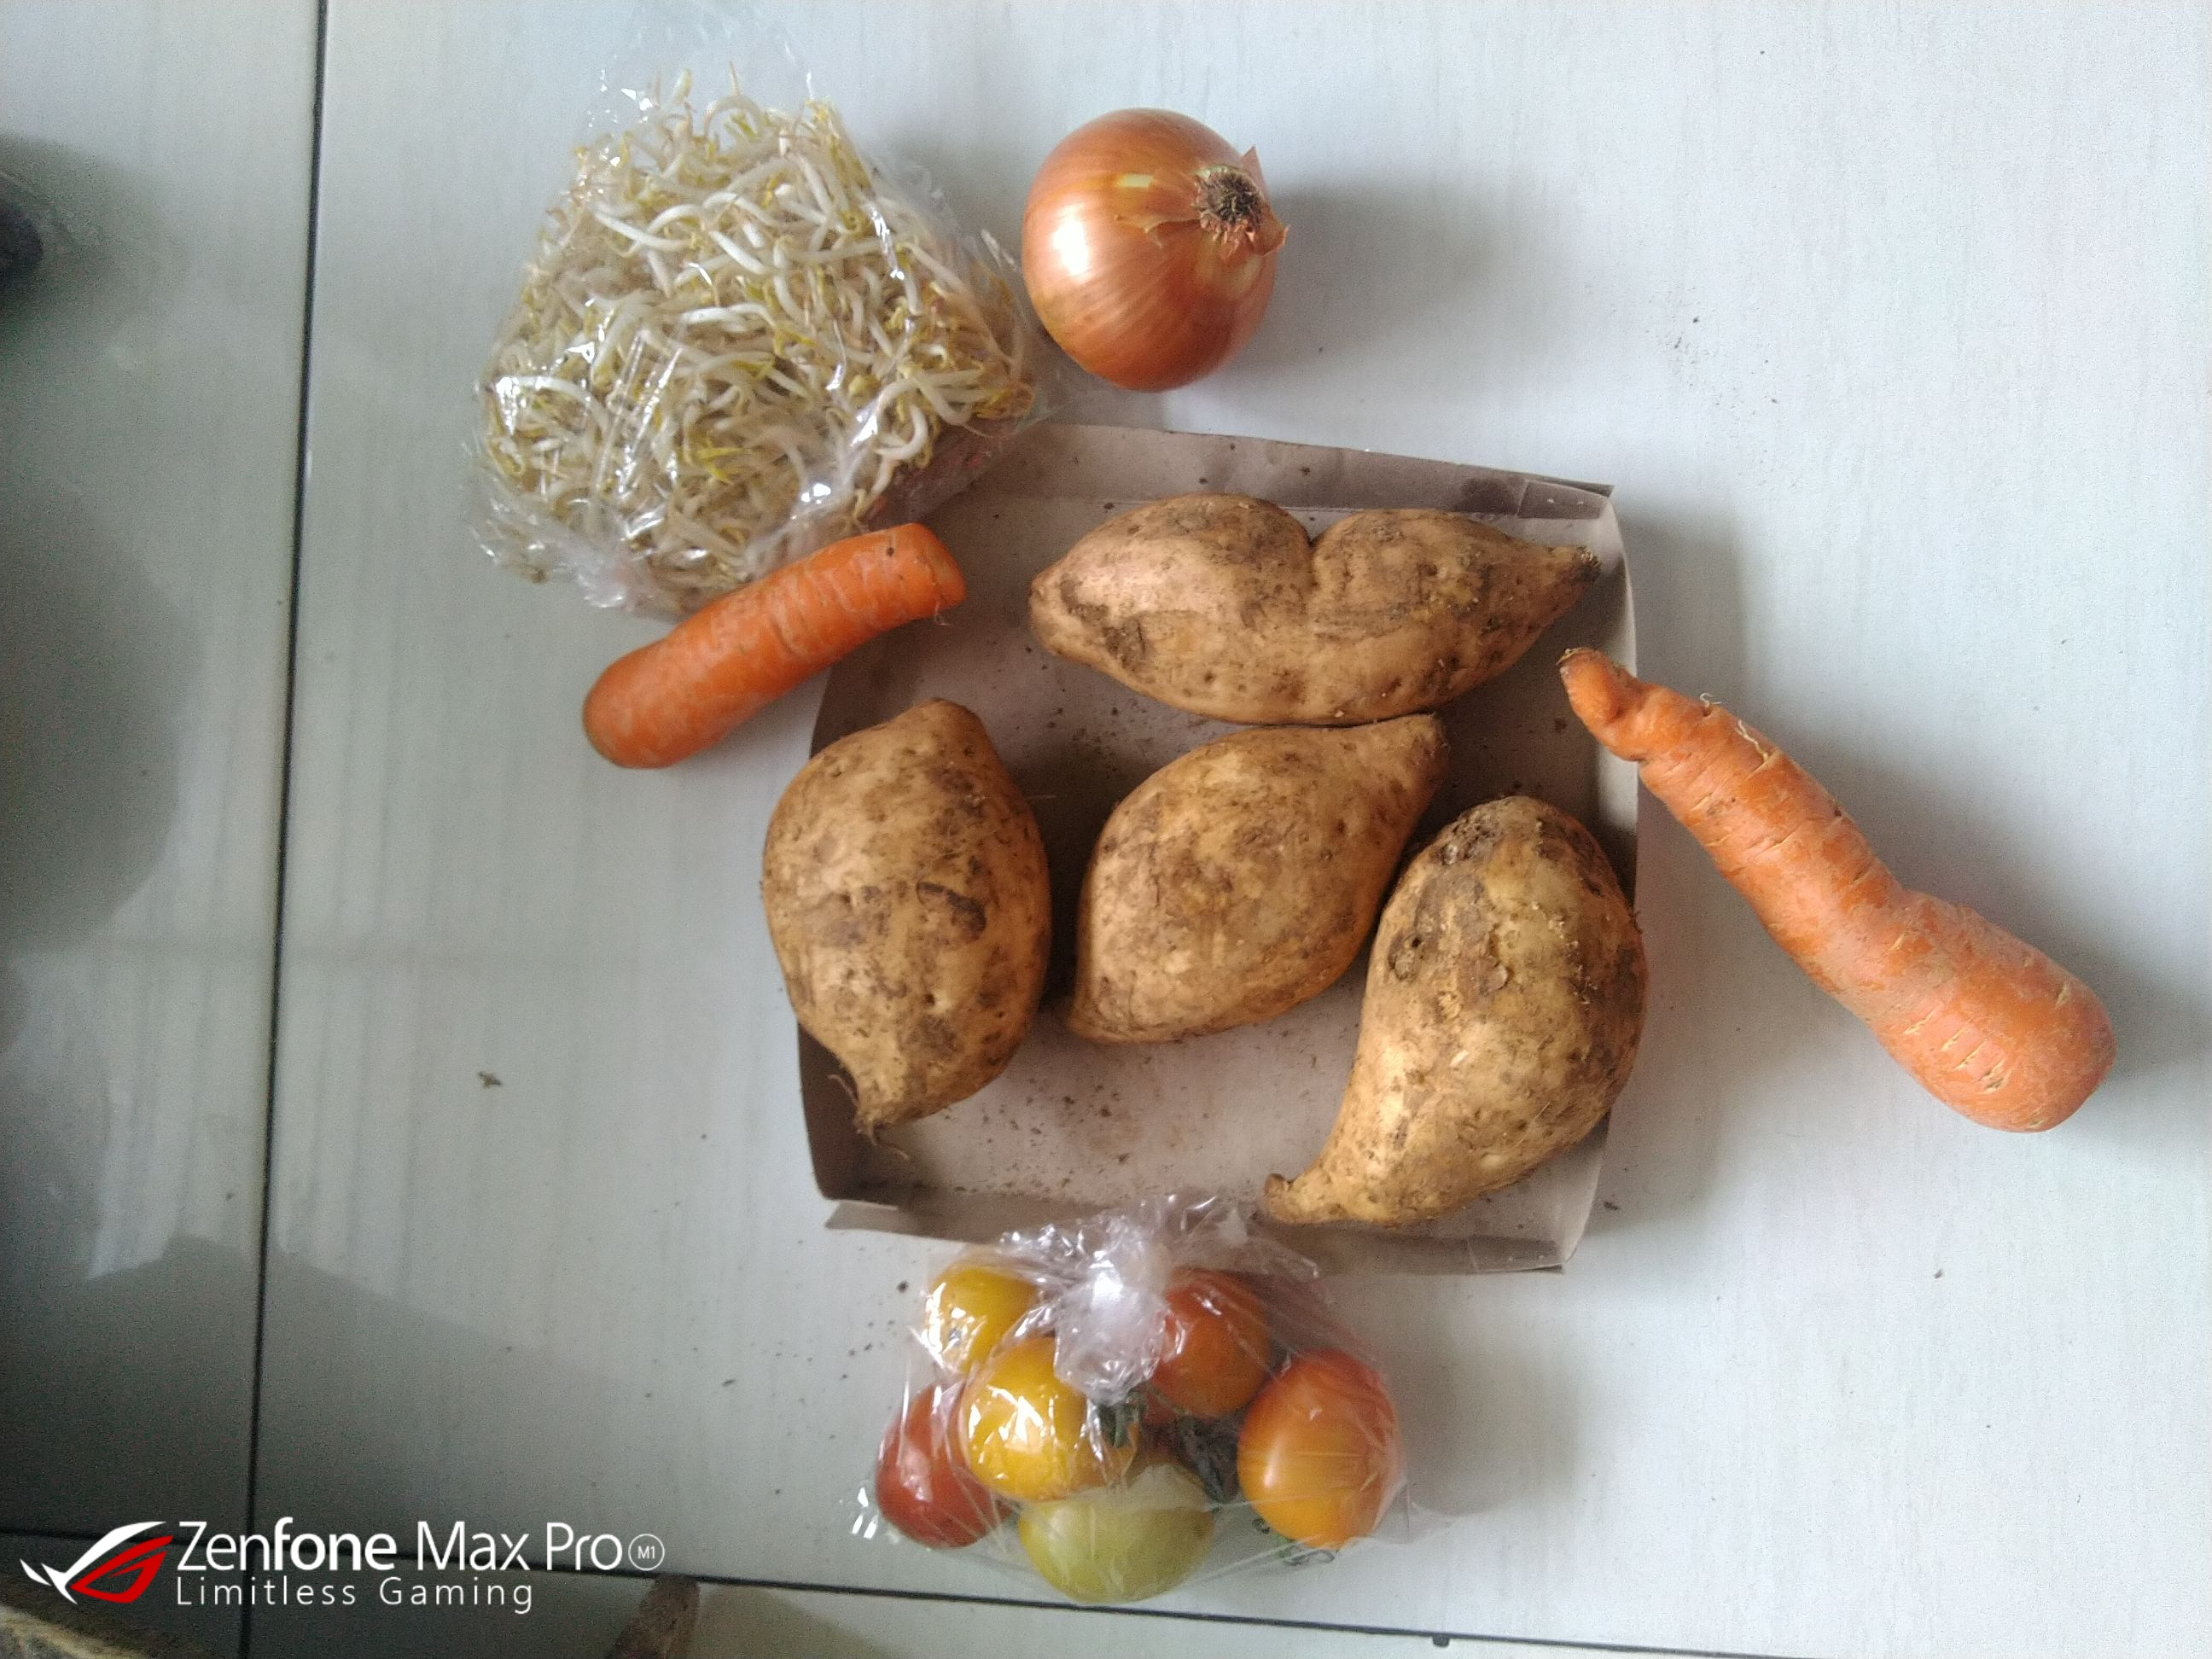ubi kuning: (1258, 788, 1660, 1255), (1061, 709, 1470, 1070), (1021, 477, 1601, 723), (758, 692, 1054, 1141)
